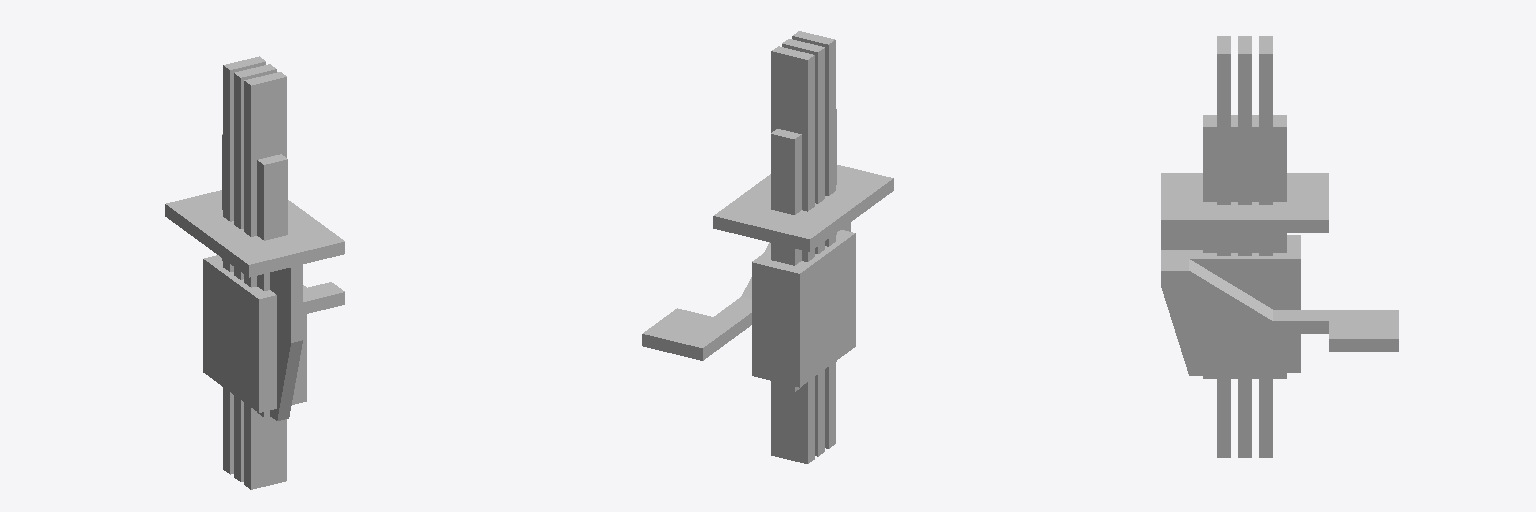
File: station_model.obj
3 renders of one model, left to right at view 1: azimuth 30°, elevation 25°; view 2: azimuth 150°, elevation 25°; view 3: azimuth 270°, elevation 25°, orthographic.
Parts seen in each view (by area): view 1: Cube; view 2: Cube; view 3: Cube.
Boxes of the visible parts, x1,y1,x2,y2 form: Cube: [165, 56, 344, 489]; Cube: [642, 31, 893, 463]; Cube: [1161, 36, 1398, 457].
Bounding box in the file's own units: 11 × 32 × 17.